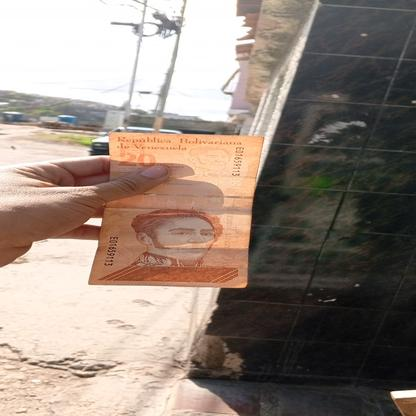twenty-front-vef: (88, 132, 264, 288)
